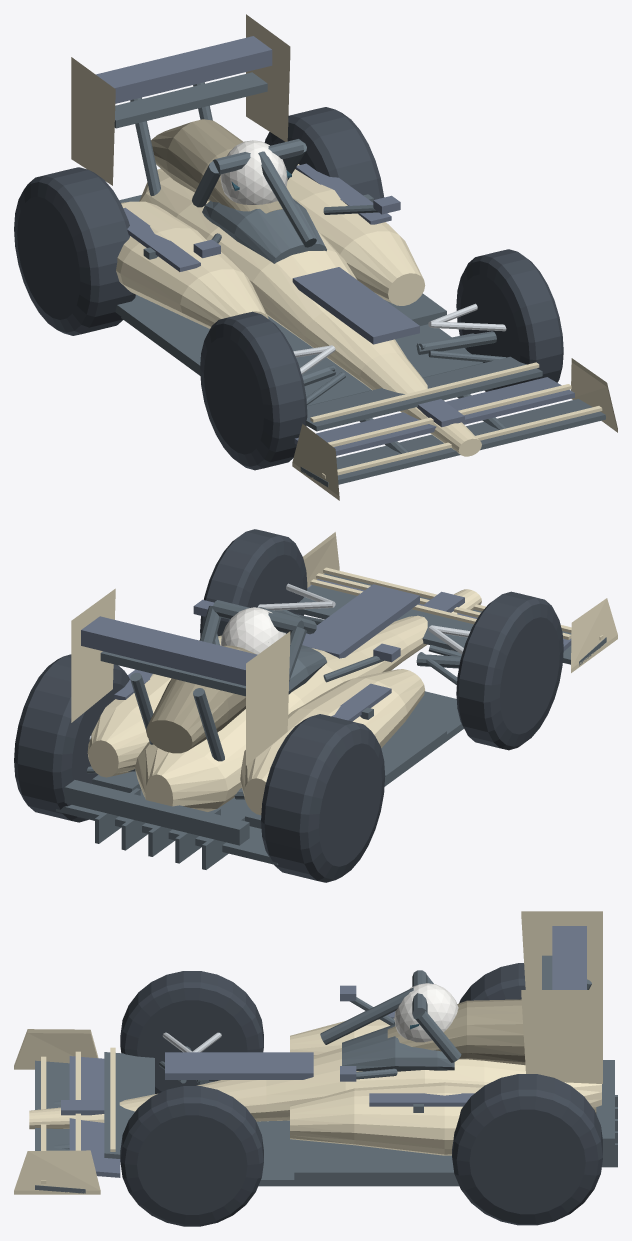
File: cadillac_high.glb
3 renders of one model, top to bottom at view 1: azimuth 30°, elevation 25°; view 2: azimuth 150°, elevation 25°; view 3: azimuth 270°, elevation 25°, orthographic. The views are drawn at different scales.
Parts seen in each view (by area): view 1: BODY_paint, BODY_carbon, BODY_accent, RearLeftWheel_rubber, FrontLeftWheel_rubber, FrontRightWheel_rubber, RearRightWheel_rubber, BODY_paint_dark, BODY_helmet, BODY_metal; view 2: BODY_paint, BODY_carbon, RearLeftWheel_rubber, FrontLeftWheel_rubber, BODY_accent, RearRightWheel_rubber, FrontRightWheel_rubber, BODY_paint_dark, BODY_helmet, BODY_metal; view 3: BODY_paint, BODY_carbon, RearRightWheel_rubber, FrontRightWheel_rubber, BODY_accent, FrontLeftWheel_rubber, BODY_paint_dark, BODY_helmet, RearLeftWheel_rubber.
Boxes of the visible parts, <box> form: BODY_paint: <box>71,14,617,500</box>; BODY_carbon: <box>114,72,605,486</box>; BODY_accent: <box>96,36,574,455</box>; RearLeftWheel_rubber: <box>14,167,135,335</box>; FrontLeftWheel_rubber: <box>200,311,307,470</box>; FrontRightWheel_rubber: <box>456,249,563,391</box>; RearRightWheel_rubber: <box>264,107,384,199</box>; BODY_paint_dark: <box>151,119,282,213</box>; BODY_helmet: <box>220,140,287,204</box>; BODY_metal: <box>293,303,506,374</box>; BODY_paint: <box>71,532,617,815</box>; BODY_carbon: <box>56,573,606,869</box>; RearLeftWheel_rubber: <box>261,714,385,882</box>; FrontLeftWheel_rubber: <box>456,591,563,750</box>; BODY_accent: <box>81,579,571,721</box>; RearRightWheel_rubber: <box>14,654,129,822</box>; FrontRightWheel_rubber: <box>200,529,307,636</box>; BODY_paint_dark: <box>146,645,256,753</box>; BODY_helmet: <box>220,607,285,654</box>; BODY_metal: <box>89,583,470,740</box>; BODY_paint: <box>14,911,602,1194</box>; BODY_carbon: <box>35,955,617,1193</box>; RearRightWheel_rubber: <box>452,1074,602,1225</box>; FrontRightWheel_rubber: <box>120,1086,263,1226</box>; BODY_accent: <box>61,926,586,1177</box>; FrontLeftWheel_rubber: <box>120,971,263,1093</box>; BODY_paint_dark: <box>387,999,525,1065</box>; BODY_helmet: <box>394,983,458,1042</box>; RearLeftWheel_rubber: <box>459,963,525,1003</box>.
Bounding box in the file's own units: 2.59 × 1.9 × 4.88.
